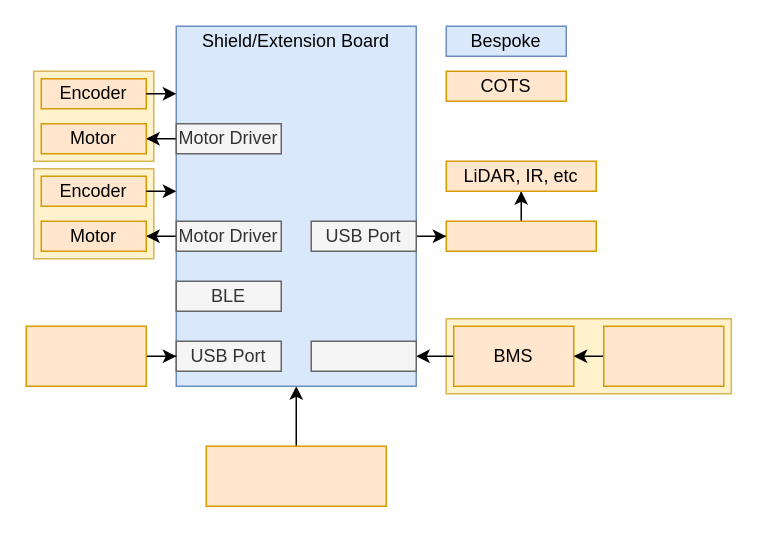
This 758x533 diagram has some shape labels left out. The centre of each missing label's shape, as x and y in pixels:
Battery: point (663, 355)
DC/DC: point (363, 355)
Dev Board: point (295, 475)
iPhone: point (85, 355)
USB-Hub: point (520, 235)
